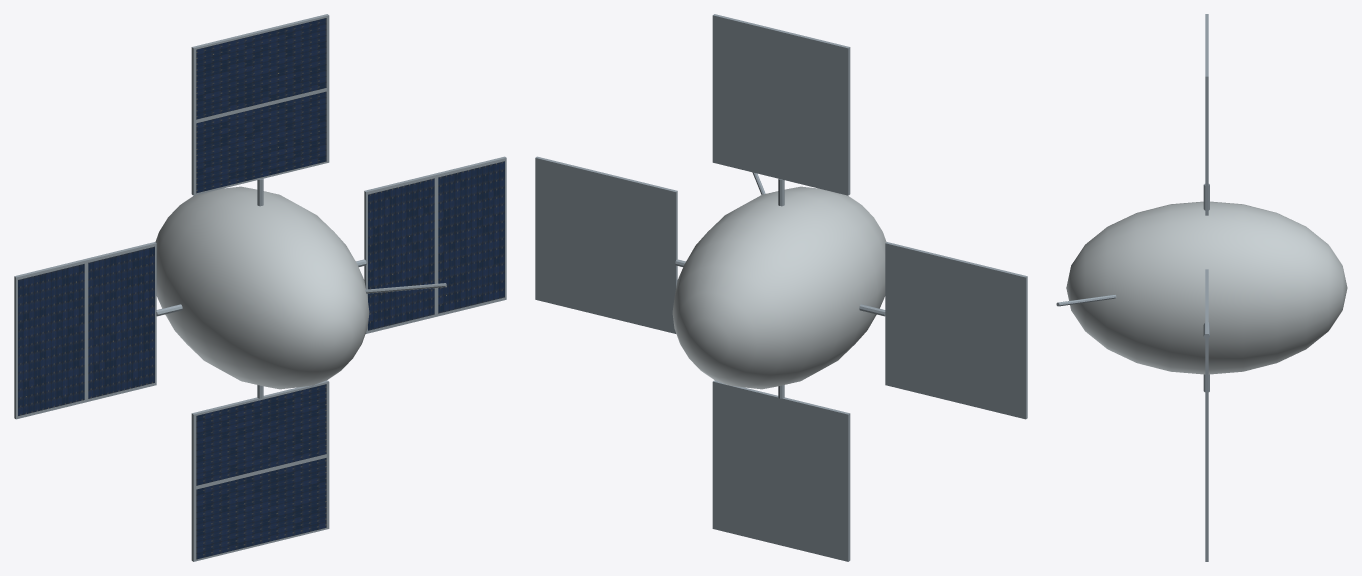
File: ref-ds-u2-1629.glb
The picture shows the model from 3 angles, left to right: view 1: azimuth 30°, elevation 25°; view 2: azimuth 150°, elevation 25°; view 3: azimuth 270°, elevation 25°; orthographic projection. The views are drawn at different scales.
Visible parts, largest first — view 1: Photovoltaic laminates (×8), Spacecraft body, Array frame (×8); view 2: Array frame (×8), Spacecraft body; view 3: Spacecraft body, Array frame (×2).
Part boxes in pixels (x1=…): Photovoltaic laminates (×8): x1=18, y1=18, x2=504, y2=559; Spacecraft body: x1=155, y1=186, x2=369, y2=389; Array frame (×8): x1=14, y1=14, x2=506, y2=561; Array frame (×8): x1=535, y1=14, x2=1027, y2=561; Spacecraft body: x1=672, y1=186, x2=886, y2=389; Spacecraft body: x1=1066, y1=201, x2=1347, y2=374; Array frame (×2): x1=1205, y1=14, x2=1208, y2=468.
Bounding box in the file's own units: 4 × 4 × 2.17.
Materials: 3 (1 with a texture image).
